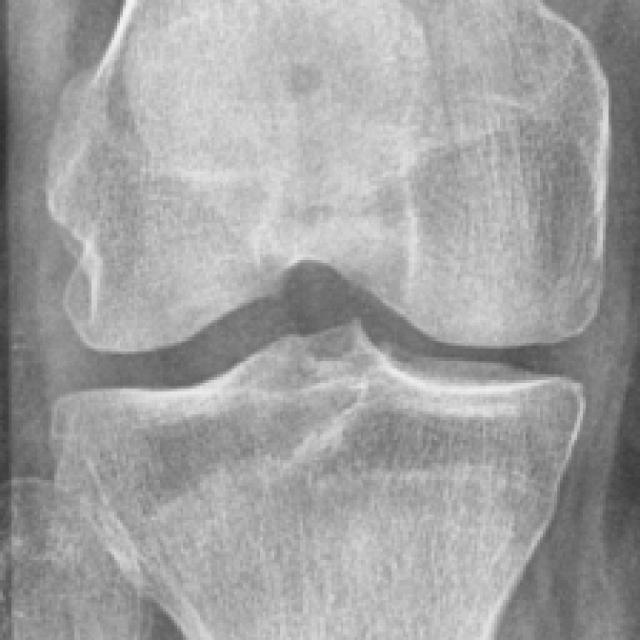femur: (51, 0, 608, 353)
tibia: (57, 317, 580, 637)
